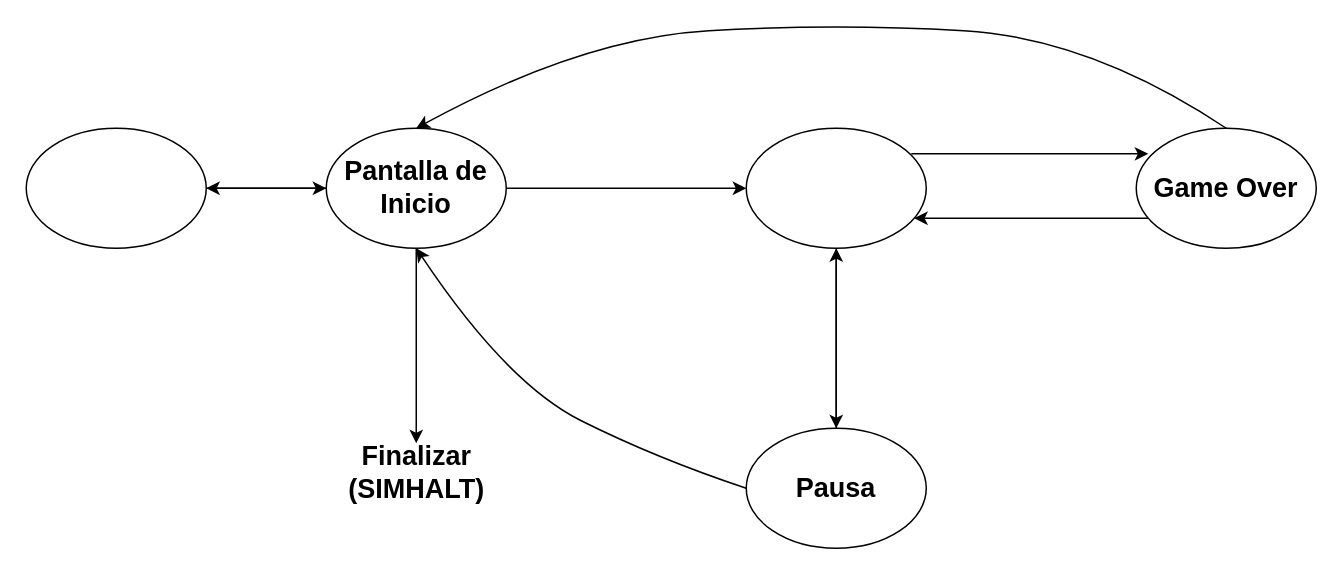
The diagram is 1343 pixels wide and 575 high, and some of its shapes have lost their labels. The shapes that lost their labels are listed below. From the top down, each one's centre as x and y in pixels, then its label:
pixel 115 187: Instrucciones (si eso simulación)
pixel 835 187: Juego
